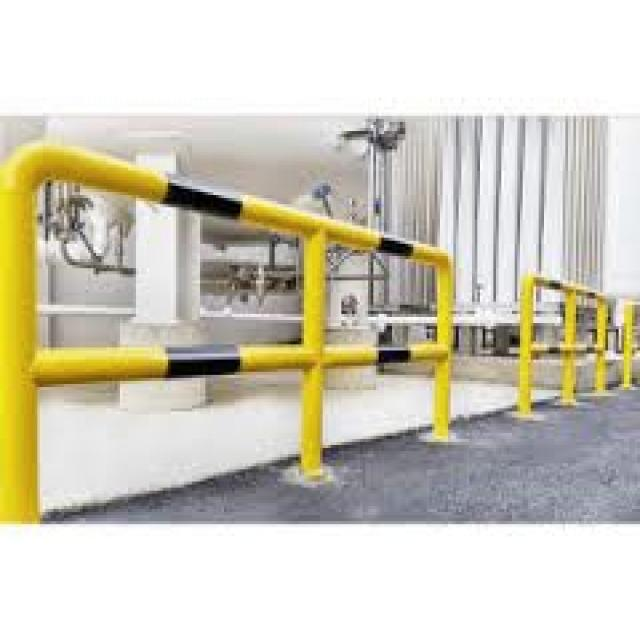bollard: (0, 134, 480, 524), (507, 259, 614, 412)
